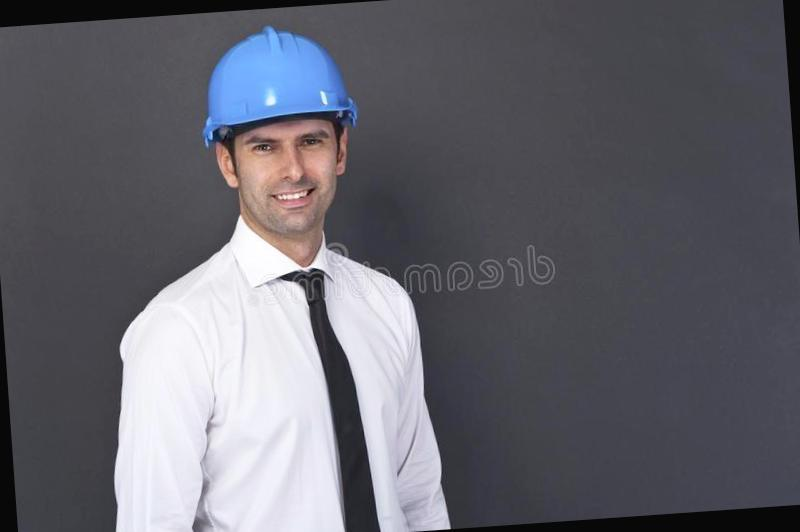helmet: (176, 20, 368, 156)
no_vest: (94, 230, 454, 532)
person: (72, 13, 457, 532)
